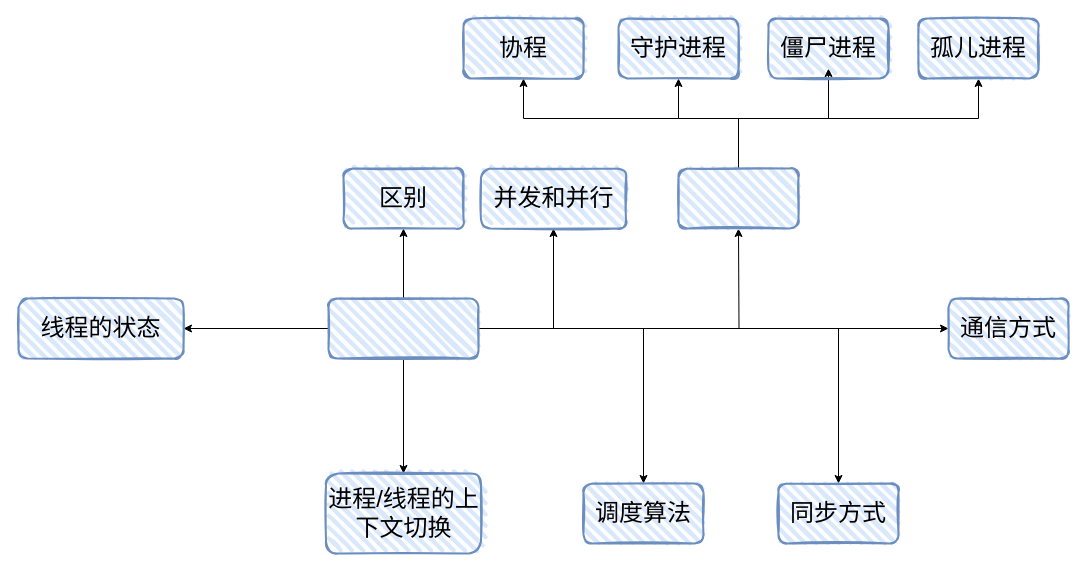
Some shapes in this 1086 by 571 pixel diagram are drawn without their labels. Here are the shapes that lost their labels. From the top down, the centre of each, then its label:
the point at 738,198: 类型
the point at 403,328: 进程和线程
